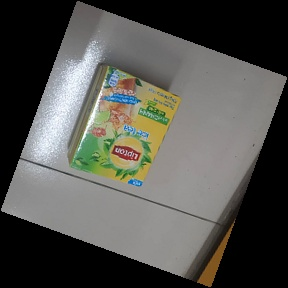LipTon: (68, 64, 182, 188)
